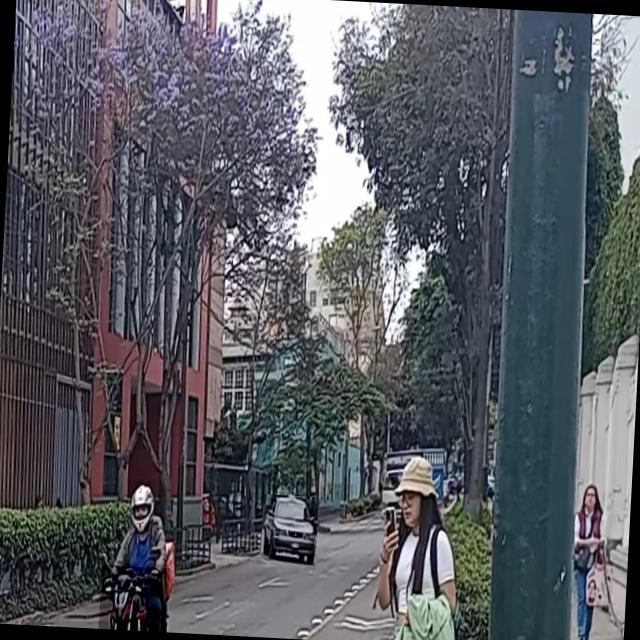bus: (260, 494, 318, 567)
motorcycle: (99, 565, 170, 632)
